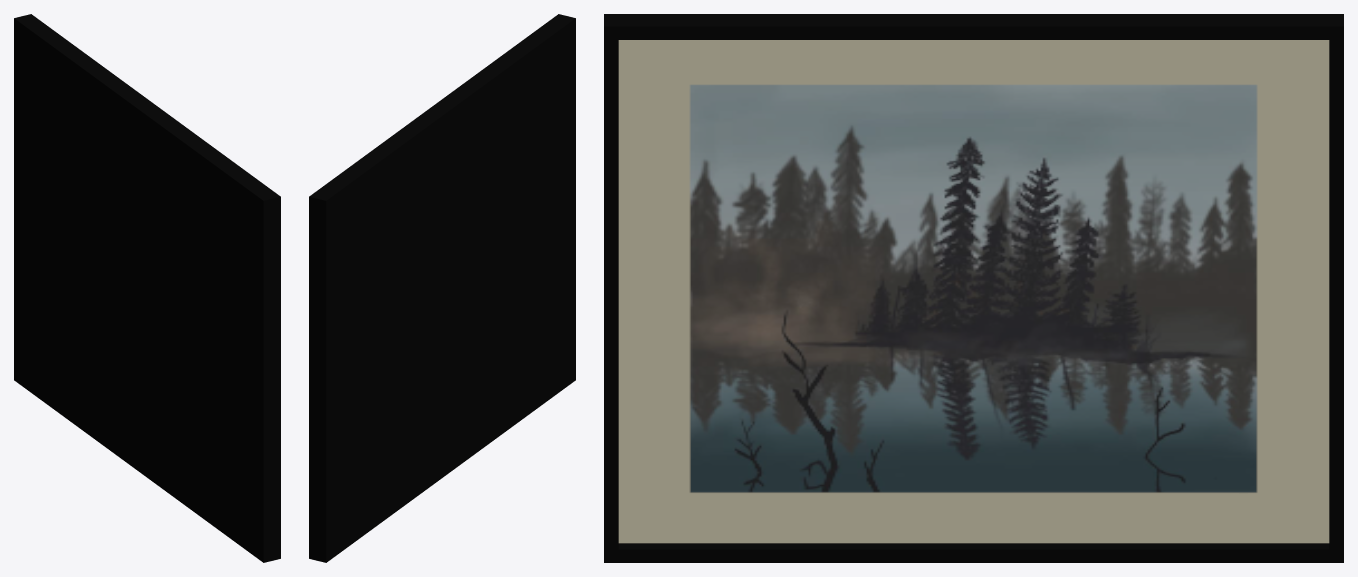
Rendered from art_painting.glb.
The picture shows the model from 3 angles, left to right: view 1: azimuth 30°, elevation 25°; view 2: azimuth 150°, elevation 25°; view 3: azimuth 270°, elevation 25°; orthographic projection. The views are drawn at different scales.
Visible parts, largest first — view 1: Image; view 2: Image; view 3: Image.
Boxes of the visible parts, box(x1,y1,x2,y2) form: Image: box(14, 14, 280, 562); Image: box(309, 14, 575, 562); Image: box(604, 14, 1343, 562).
Size of the model in its own units: 2 by 40 by 50.
1 material, 1 textured.
